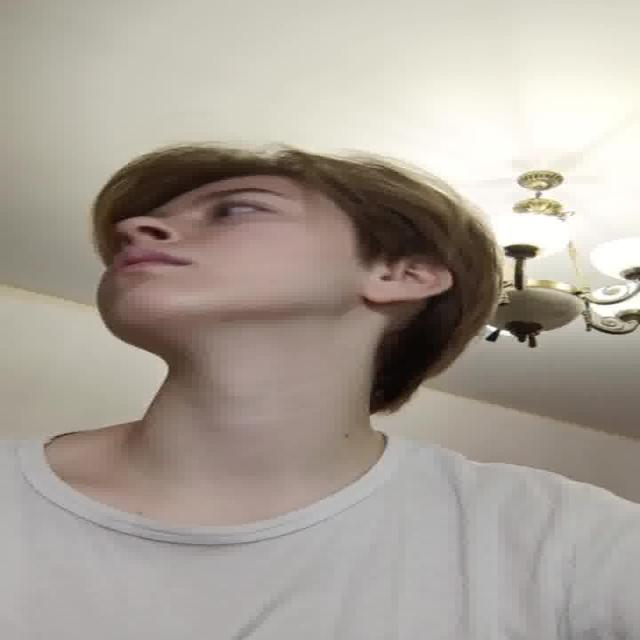earlobe: (362, 278, 409, 304)
eye: (208, 202, 279, 219)
nose: (112, 235, 176, 254)
wholeear: (362, 248, 454, 304)
